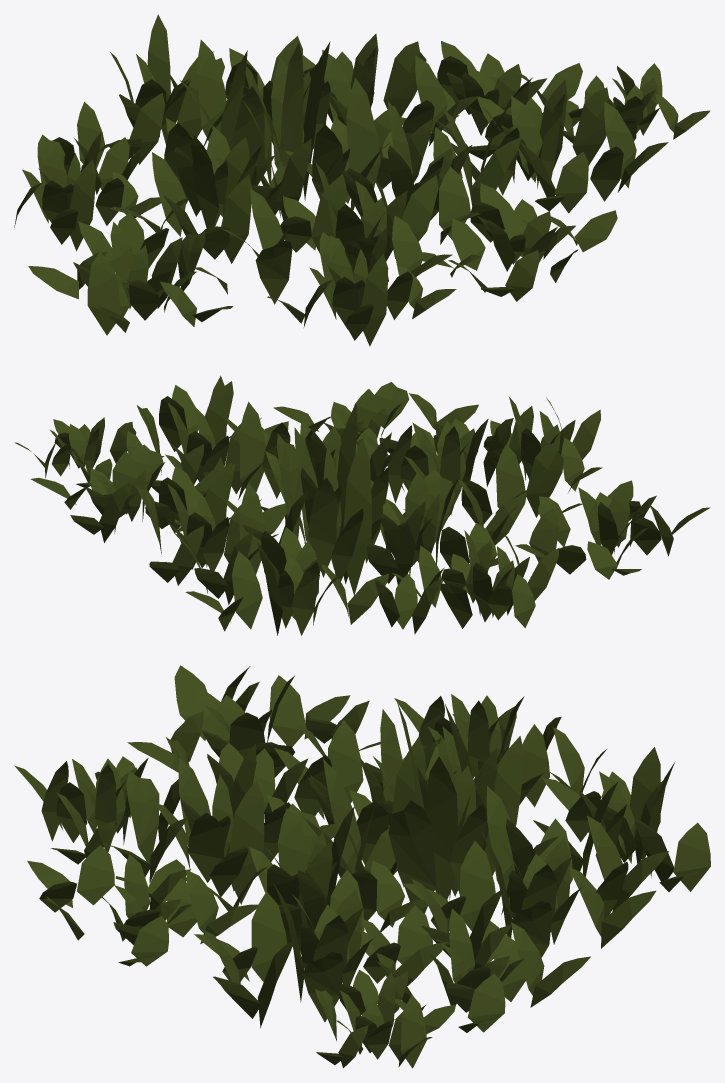
Rendered from SM_Grass_Thick_C.fbx.
3 views of the same model, one above another, from view 1: azimuth 30°, elevation 25°; view 2: azimuth 150°, elevation 25°; view 3: azimuth 270°, elevation 25° (orthographic). The views are drawn at different scales.
Parts seen in each view (by area): view 1: grass-thick-c; view 2: grass-thick-c; view 3: grass-thick-c.
Part boxes in pixels (x1,y1,x2,y2): grass-thick-c: (14, 14, 710, 346); grass-thick-c: (14, 375, 710, 635); grass-thick-c: (14, 665, 710, 1068).
Size of the model in its own units: 2.34 by 0.6105 by 1.88.
